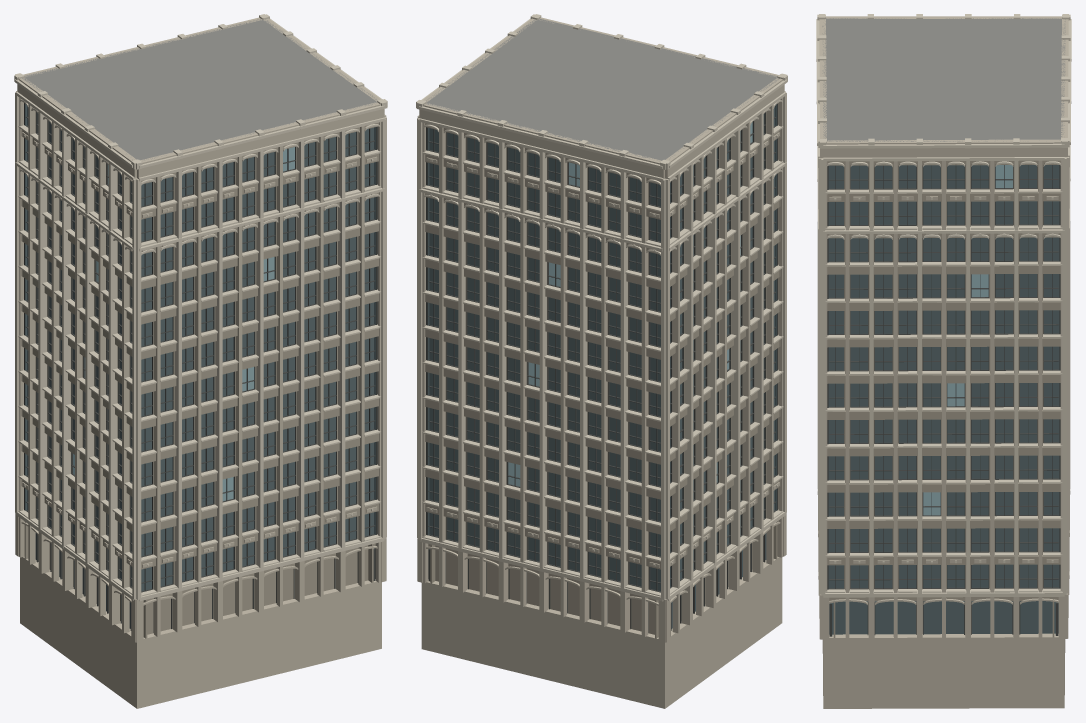
File: washington_309.glb
3 renders of one model, left to right at view 1: azimuth 30°, elevation 25°; view 2: azimuth 150°, elevation 25°; view 3: azimuth 270°, elevation 25°, orthographic. The views are drawn at different scales.
Visible parts, largest first — view 1: Washington309 buff masonry, Washington309 pale carved trim, Washington309 recessed glass, Washington309 recessed masonry, Washington309 opaque roof, Washington309 dark physical sash, Night Washington309 occupied windows; view 2: Washington309 buff masonry, Washington309 pale carved trim, Washington309 recessed glass, Washington309 recessed masonry, Washington309 opaque roof, Washington309 dark physical sash, Night Washington309 occupied windows; view 3: Washington309 recessed glass, Washington309 buff masonry, Washington309 pale carved trim, Washington309 opaque roof, Washington309 recessed masonry, Washington309 dark physical sash, Night Washington309 occupied windows.
Part boxes in pixels (x1,y1,x2,y2): Washington309 buff masonry: [15, 17, 386, 708]; Washington309 pale carved trim: [14, 14, 387, 601]; Washington309 recessed glass: [25, 104, 375, 628]; Washington309 recessed masonry: [21, 107, 378, 638]; Washington309 opaque roof: [22, 18, 377, 160]; Washington309 dark physical sash: [24, 103, 377, 632]; Night Washington309 occupied windows: [73, 147, 294, 500]; Washington309 buff masonry: [417, 17, 786, 708]; Washington309 pale carved trim: [416, 14, 787, 601]; Washington309 recessed glass: [427, 104, 776, 628]; Washington309 recessed masonry: [425, 103, 780, 638]; Washington309 opaque roof: [425, 18, 779, 161]; Washington309 dark physical sash: [426, 103, 777, 632]; Night Washington309 occupied windows: [508, 122, 752, 486]; Washington309 recessed glass: [828, 165, 1059, 636]; Washington309 buff masonry: [819, 16, 1068, 708]; Washington309 pale carved trim: [816, 14, 1071, 597]; Washington309 opaque roof: [822, 18, 1065, 141]; Washington309 recessed masonry: [827, 160, 1060, 637]; Washington309 dark physical sash: [827, 165, 1060, 636]; Night Washington309 occupied windows: [923, 165, 1012, 515].
Bounding box in the file's own units: 31.35 × 64.17 × 26.15.
